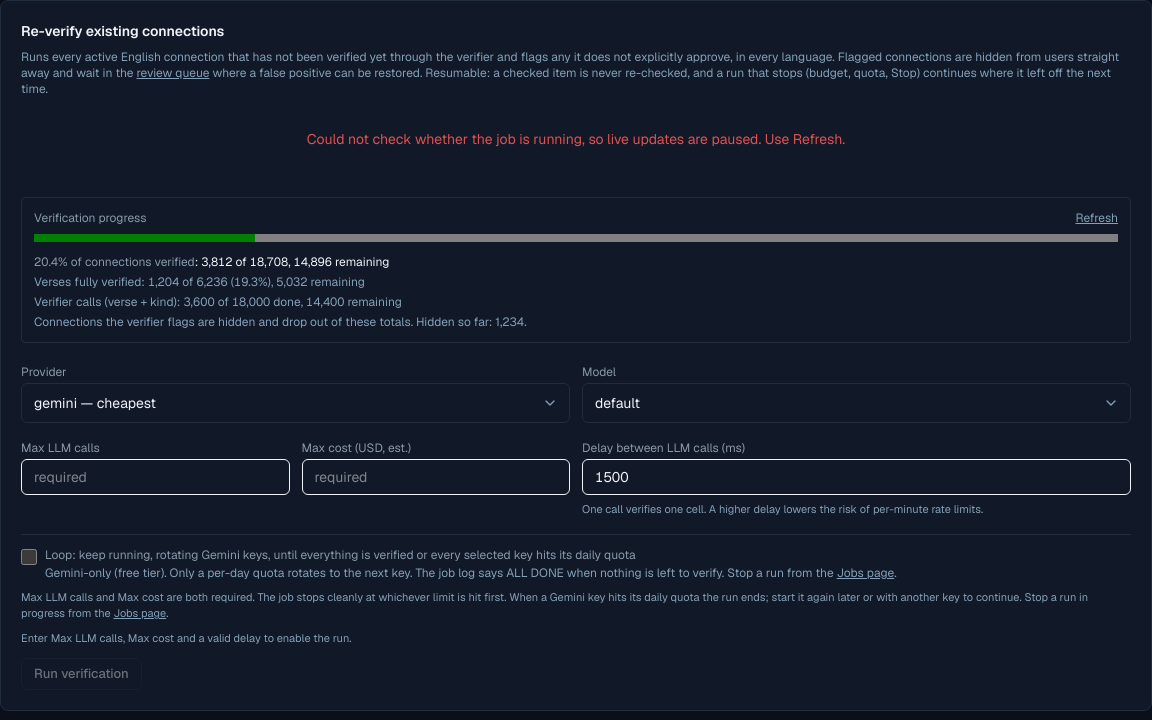
VerifyRunner progress › resumes status checks after a successful start when /jobs failed earlier
Expected: the text "Could not check whether the job is running" is shown, x1=307 y1=130 x2=845 y2=148
Type "40" into the number field labelled "Max LLM calls" at [155, 477], box x1=21 y1=459 x2=290 y2=495
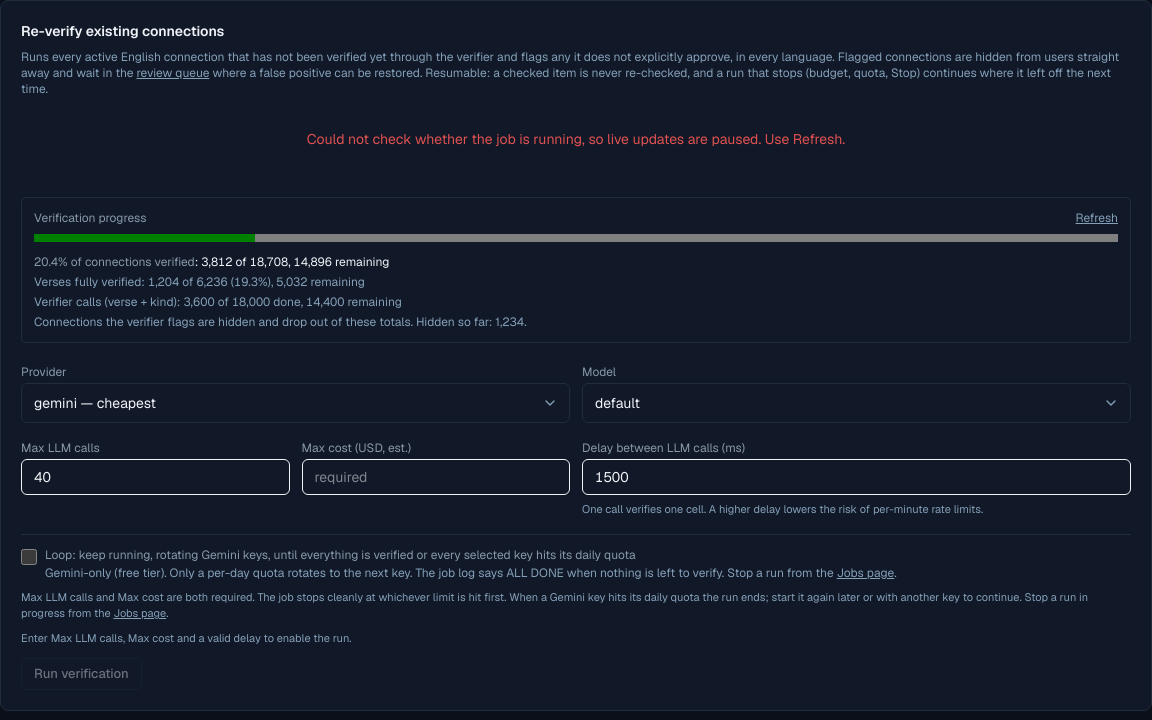
Type "1.5" into the number field labelled "Max cost (USD, est.)" at [436, 477], box x1=302 y1=459 x2=570 y2=495
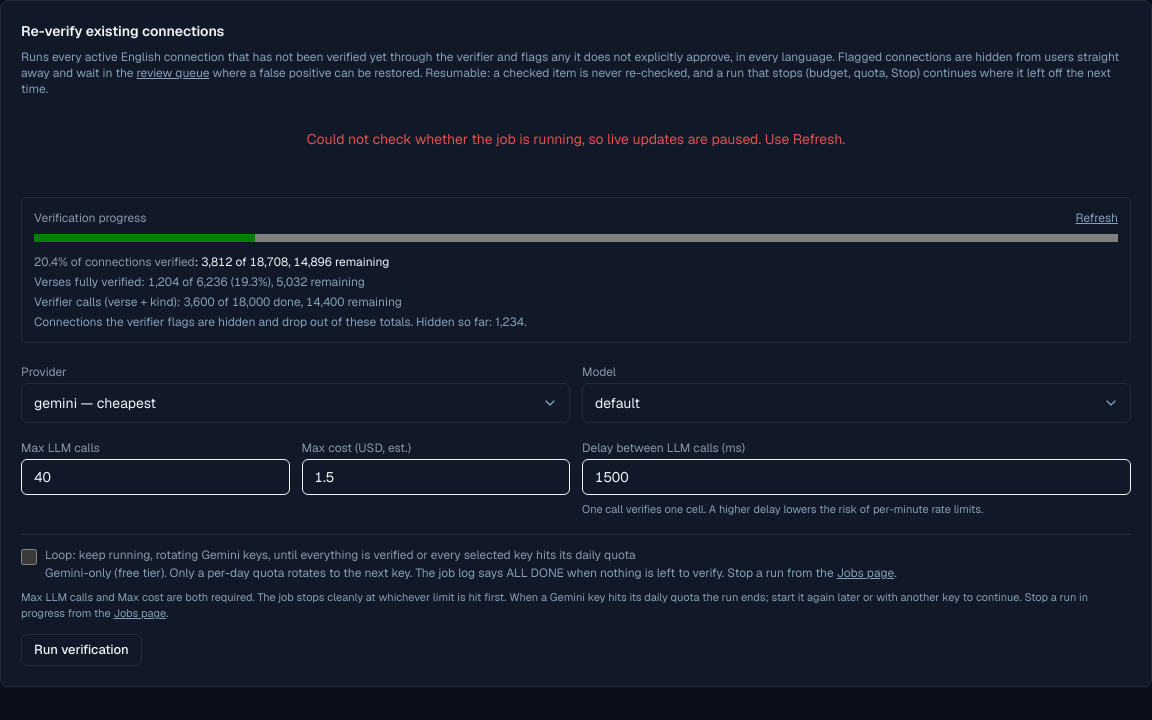
Click the button "Run verification" at [81, 650], box x1=21 y1=634 x2=142 y2=666
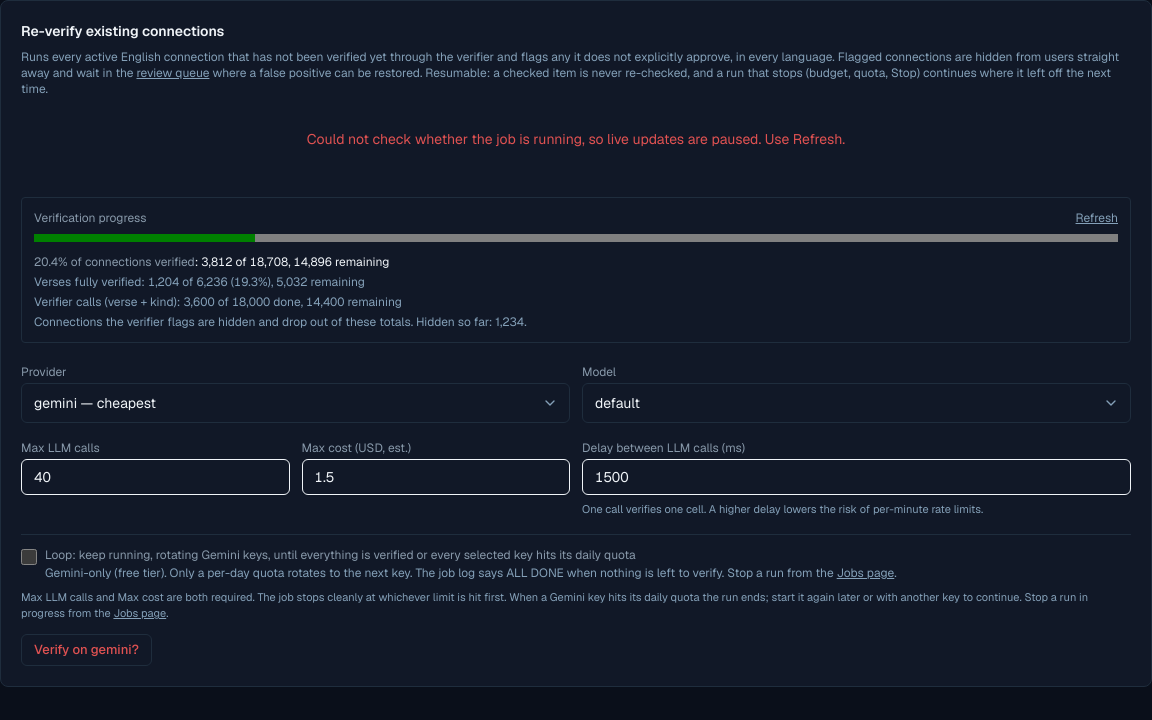
Click the button "Verify on gemini?" at [86, 650], box x1=21 y1=634 x2=152 y2=666
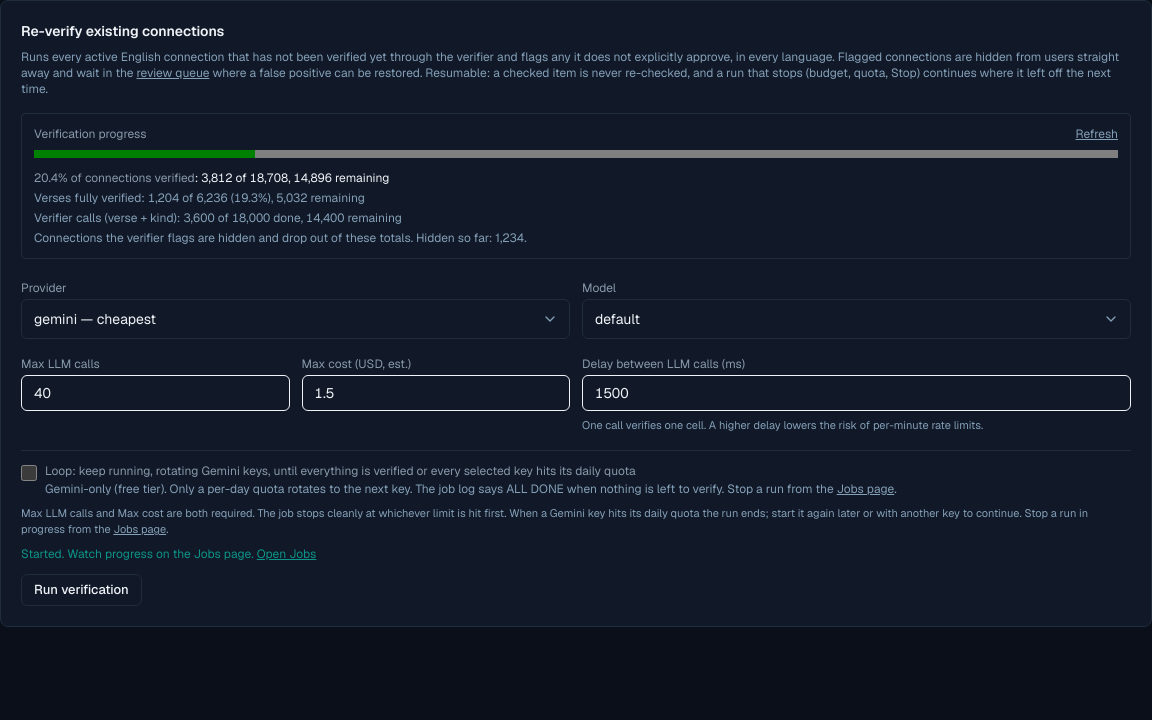
Expected: the text "Could not check whether the job is running" is gone
